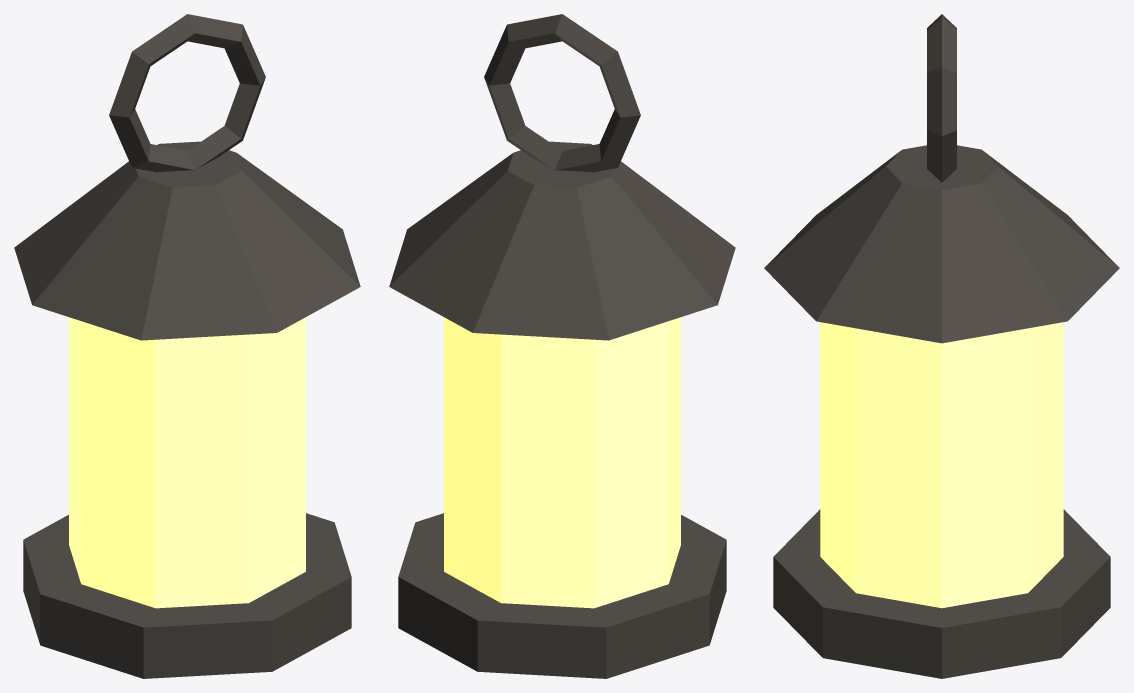
The model's file is lantern.glb.
3 views of the same model, side by side, from view 1: azimuth 30°, elevation 25°; view 2: azimuth 150°, elevation 25°; view 3: azimuth 270°, elevation 25° (orthographic).
Visible parts, largest first — view 1: lantern; view 2: lantern; view 3: lantern.
Boxes of the visible parts, x1,y1,x2,y2 form: lantern: (14,14,360,678); lantern: (389,14,735,678); lantern: (764,14,1119,678).
Bounding box in the file's own units: 0.19 × 0.348 × 0.19.
